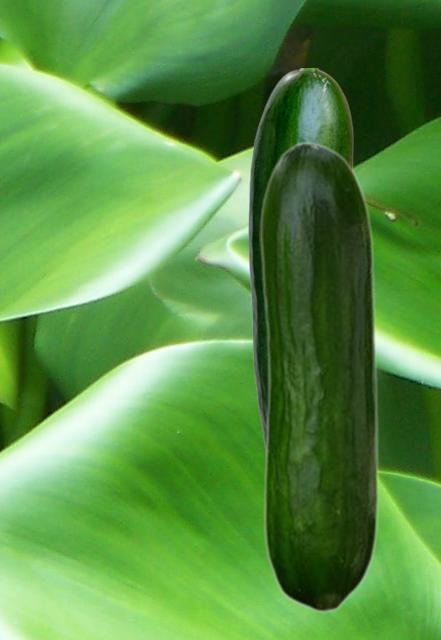cucumber: (259, 141, 379, 612), (248, 68, 355, 443)
